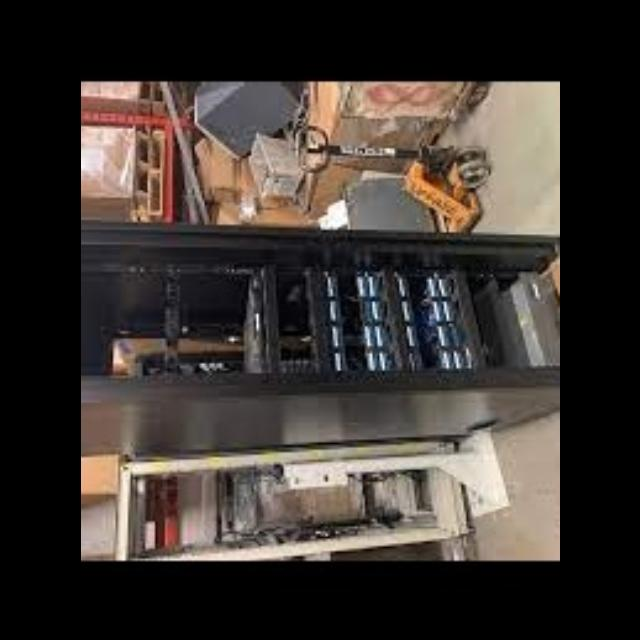Server: (80, 210, 560, 444)
